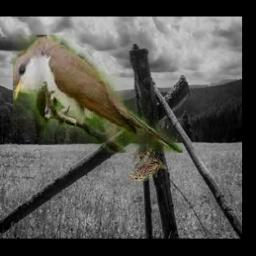Cuckoo: (13, 35, 183, 153)
Sparrow: (128, 148, 167, 181)
